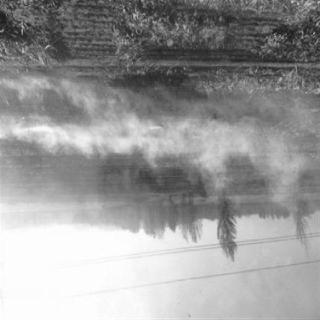Fire: (282, 100, 320, 126), (179, 126, 212, 146)
Smoke: (34, 125, 112, 152), (117, 118, 146, 154), (216, 125, 248, 152), (202, 149, 226, 179)
